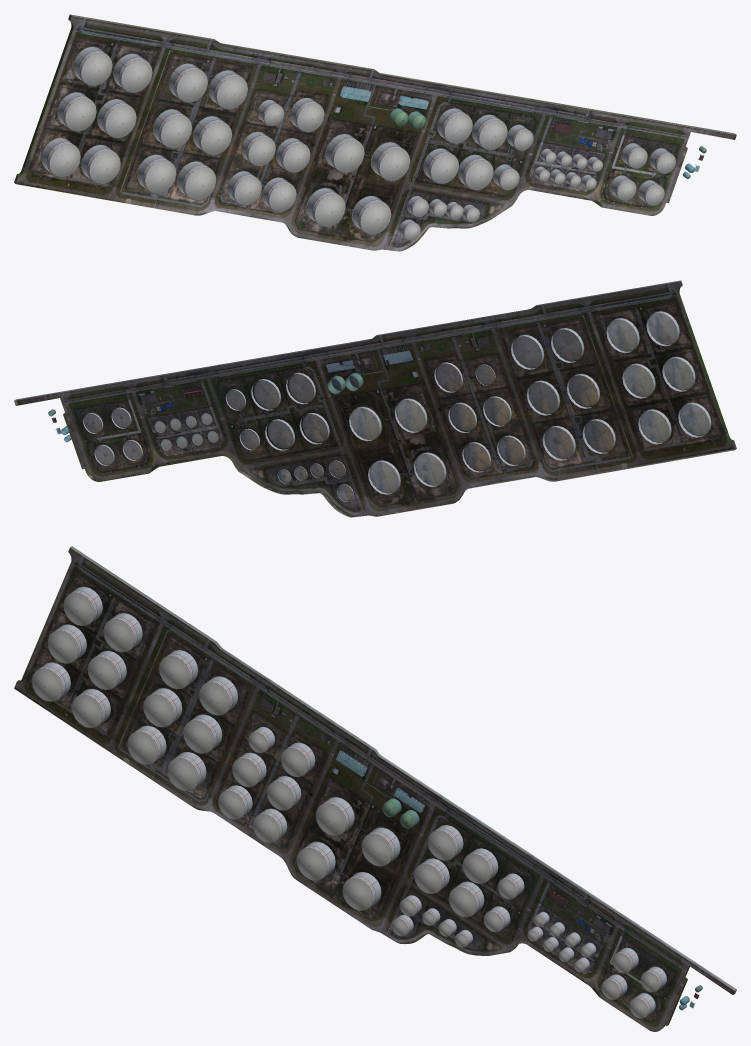
3 renders of one model, top to bottom at view 1: azimuth 30°, elevation 25°; view 2: azimuth 150°, elevation 25°; view 3: azimuth 330°, elevation 25°, orthographic.
Visible parts, largest first — view 1: p8_01; view 2: p8_01; view 3: p8_01.
Part boxes in pixels (x1=…): p8_01: x1=14, y1=14, x2=736, y2=251; p8_01: x1=14, y1=280, x2=736, y2=517; p8_01: x1=14, y1=546, x2=736, y2=1031.
Bounding box in the file's own units: 108481 × 49162 × 3866.
